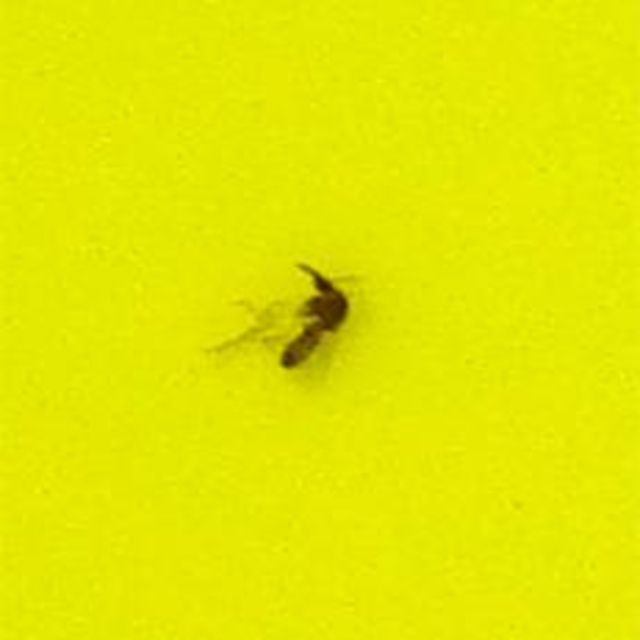Brachycera: (277, 257, 363, 383)
